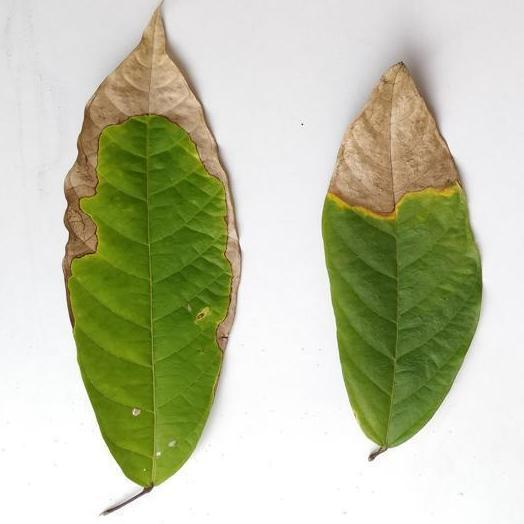Potassium: (63, 10, 239, 494), (322, 63, 481, 459)
